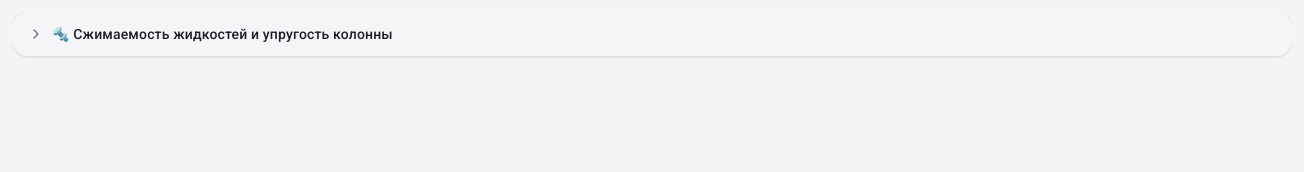
Test case: keeps production storage controls and removes separate research controls even from legacy saved settings
Click the button "🔩 Сжимаемость жидкостей и упругость колонны" at (222, 34), box [12,12,1292,56]
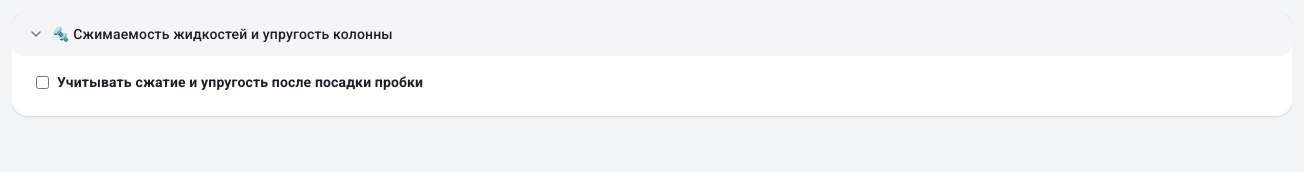
Now the number of checkboxes is 1, box [36,76,49,88]
